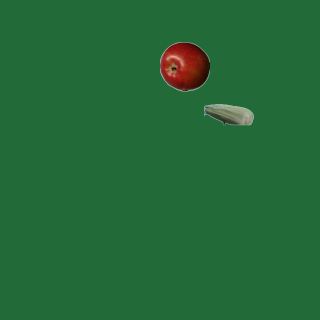Apple Braeburn: (159, 41, 209, 91)
Corn Husk: (203, 89, 253, 139)
